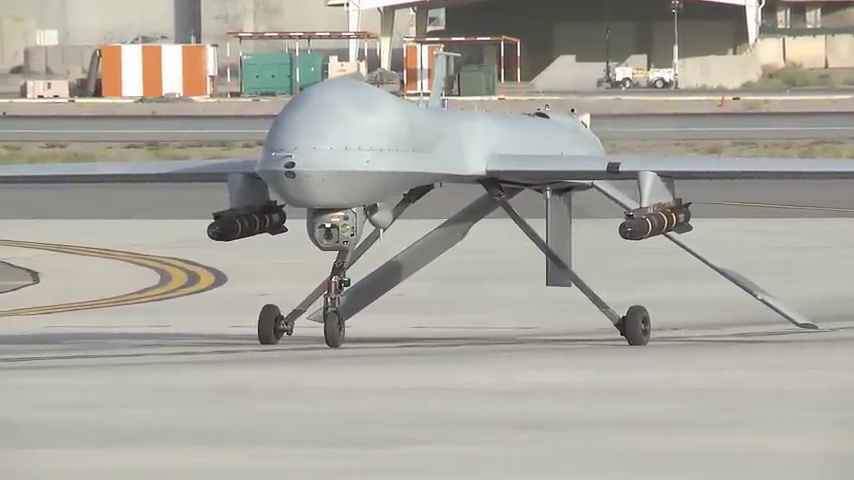military drone: (0, 78, 854, 346)
